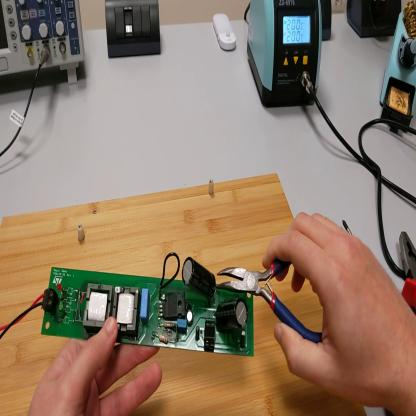hand: (258, 210, 410, 404), (29, 314, 168, 416)
high voltage board: (3, 253, 260, 372)
oscilloscope: (1, 2, 86, 94)
pliers: (215, 260, 321, 346), (396, 224, 416, 314)
socket: (346, 1, 403, 42), (322, 4, 332, 47)
welder base: (380, 1, 416, 136)
welder probe tip: (402, 33, 416, 75)
welder station: (248, 1, 322, 114)
working area: (2, 174, 368, 416)
